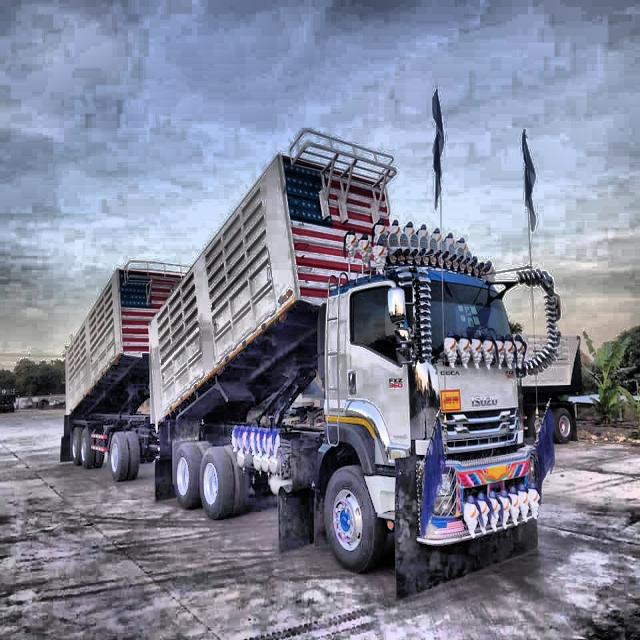trailer: (62, 130, 540, 582)
